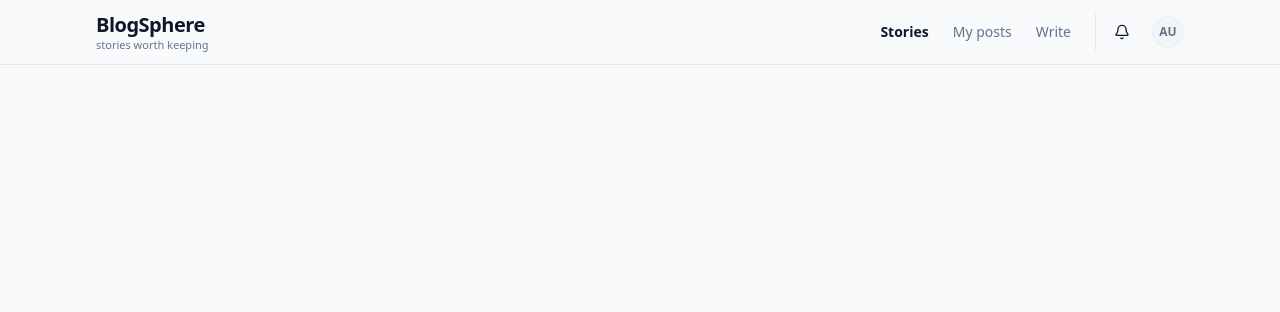
Test case: Header and Navigation › displays admin panel link in dropdown when user is an ADMIN
Click the button with aria-label "User account menu". click: x=1168, y=32
box: [1152,16,1184,48]
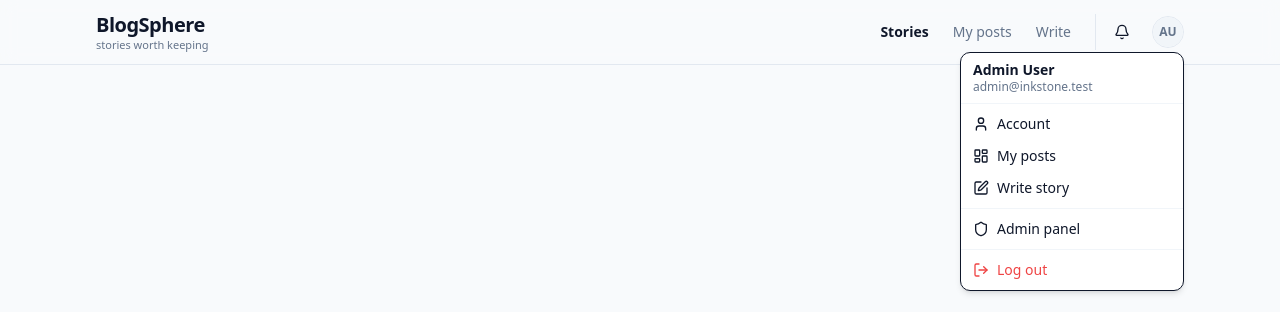
Expected: the text "Admin panel" is shown, [997,219,1080,239]
